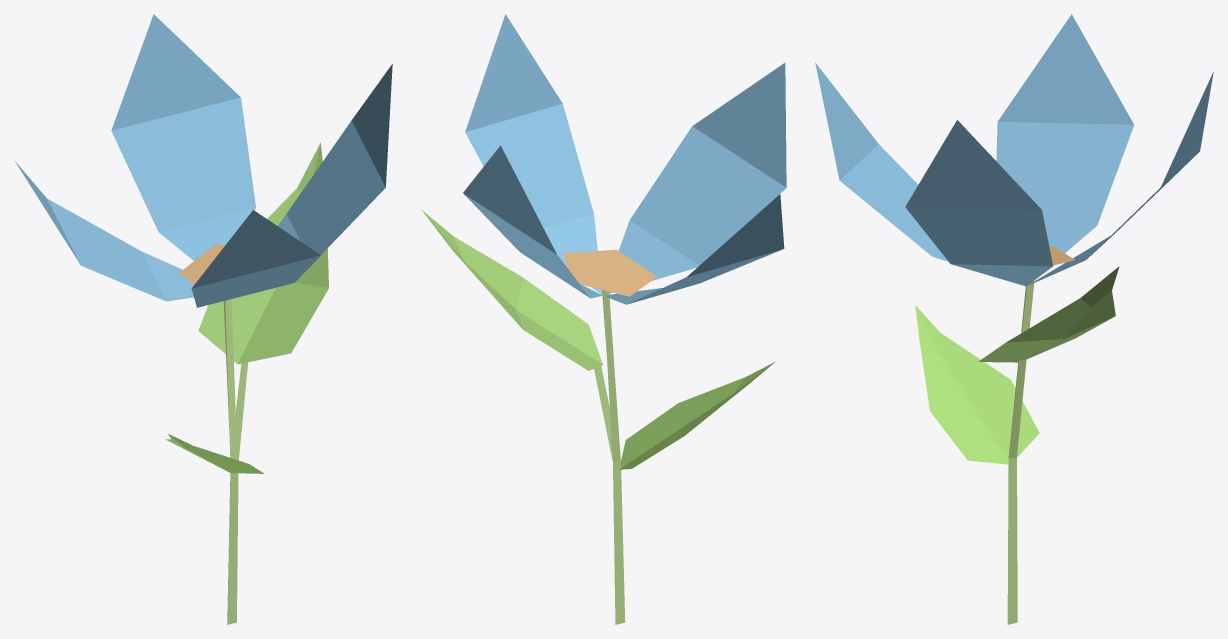
Rendered from Flower_a_TwoS_08.fbx.
The picture shows the model from 3 angles, left to right: view 1: azimuth 30°, elevation 25°; view 2: azimuth 150°, elevation 25°; view 3: azimuth 270°, elevation 25°; orthographic projection. The views are drawn at different scales.
Parts seen in each view (by area): view 1: Flower_a_TwoS_08; view 2: Flower_a_TwoS_08; view 3: Flower_a_TwoS_08.
Boxes of the visible parts, <box> form: Flower_a_TwoS_08: <box>15,14,392,624</box>; Flower_a_TwoS_08: <box>421,14,786,624</box>; Flower_a_TwoS_08: <box>815,14,1213,624</box>.
Size of the model in its own units: 0.4161 by 0.6576 by 0.4147.
